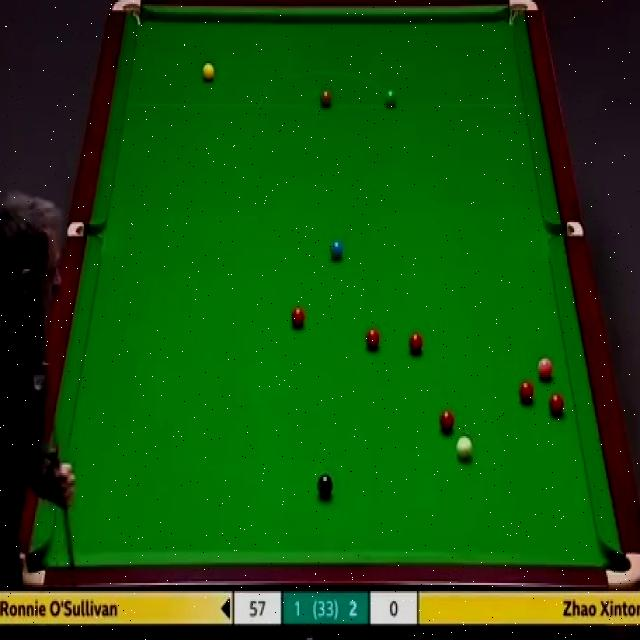black-ball: (316, 473, 334, 498)
blue-ball: (331, 239, 343, 262)
brown-ball: (320, 90, 333, 108)
green-ball: (385, 88, 396, 108)
pink-ball: (538, 356, 554, 382)
red-ball: (438, 409, 455, 434), (549, 390, 564, 416), (364, 327, 380, 351), (409, 329, 424, 354), (519, 381, 534, 403), (292, 304, 306, 326)
white-ball: (455, 436, 472, 464)
yellow-ball: (202, 63, 216, 84)
